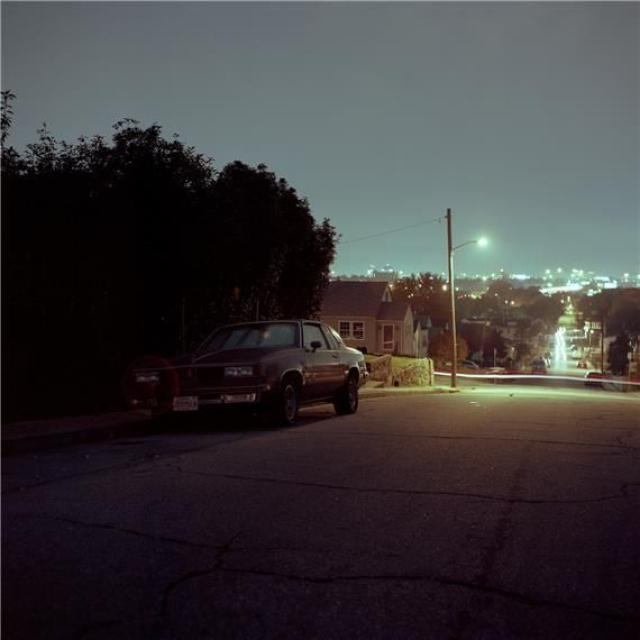on: (452, 205, 596, 374)
